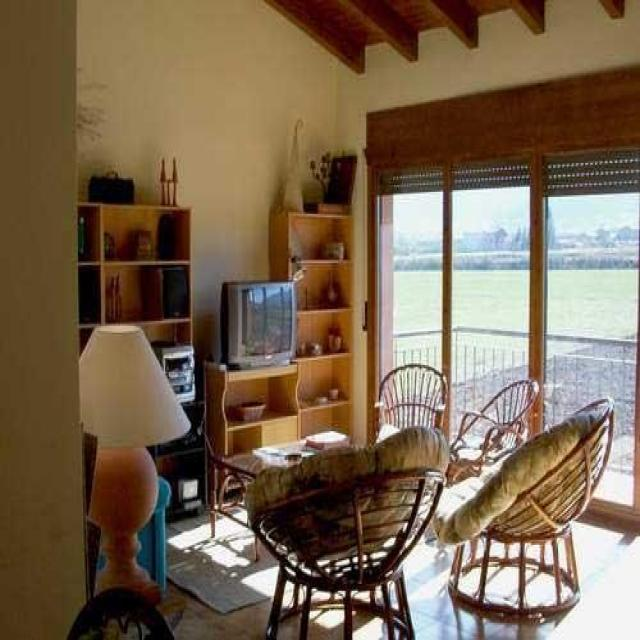cupboard: (203, 207, 354, 506)
lamps: (78, 322, 191, 604)
rugs: (164, 501, 301, 614)
shelves: (75, 200, 204, 520)
television: (219, 278, 297, 368)
window: (372, 146, 638, 523)
windows: (540, 146, 639, 516), (374, 163, 446, 445)
